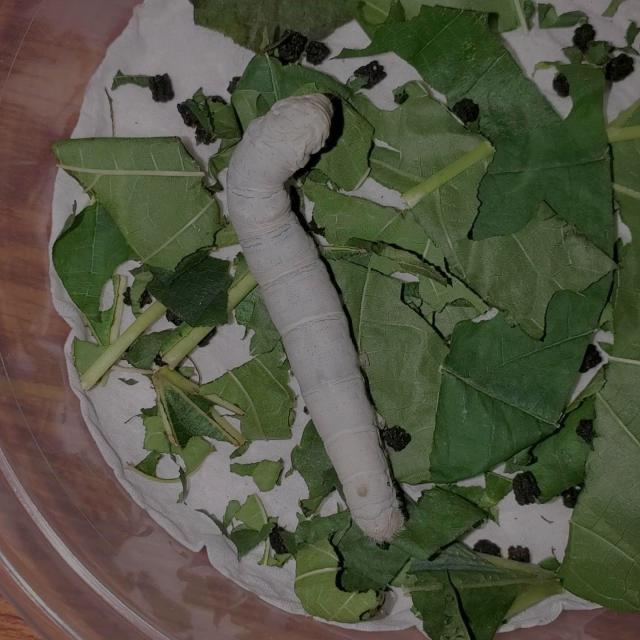Healthy: (193, 70, 458, 560)
